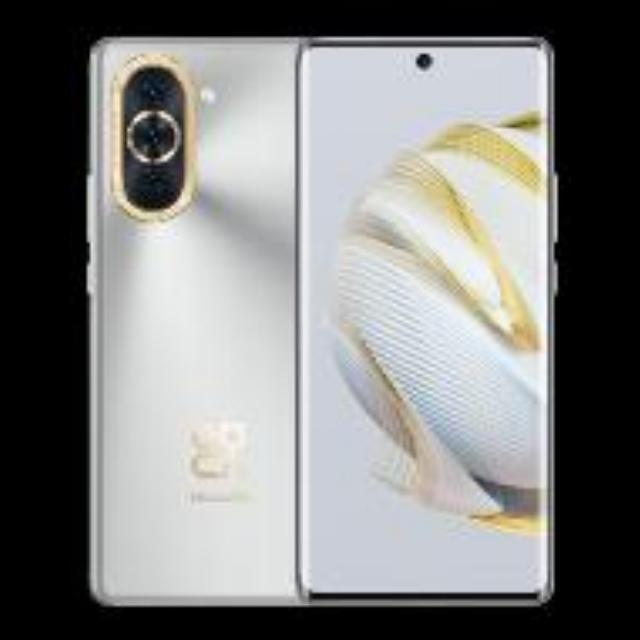Phone: (306, 38, 552, 602), (88, 36, 300, 604)
